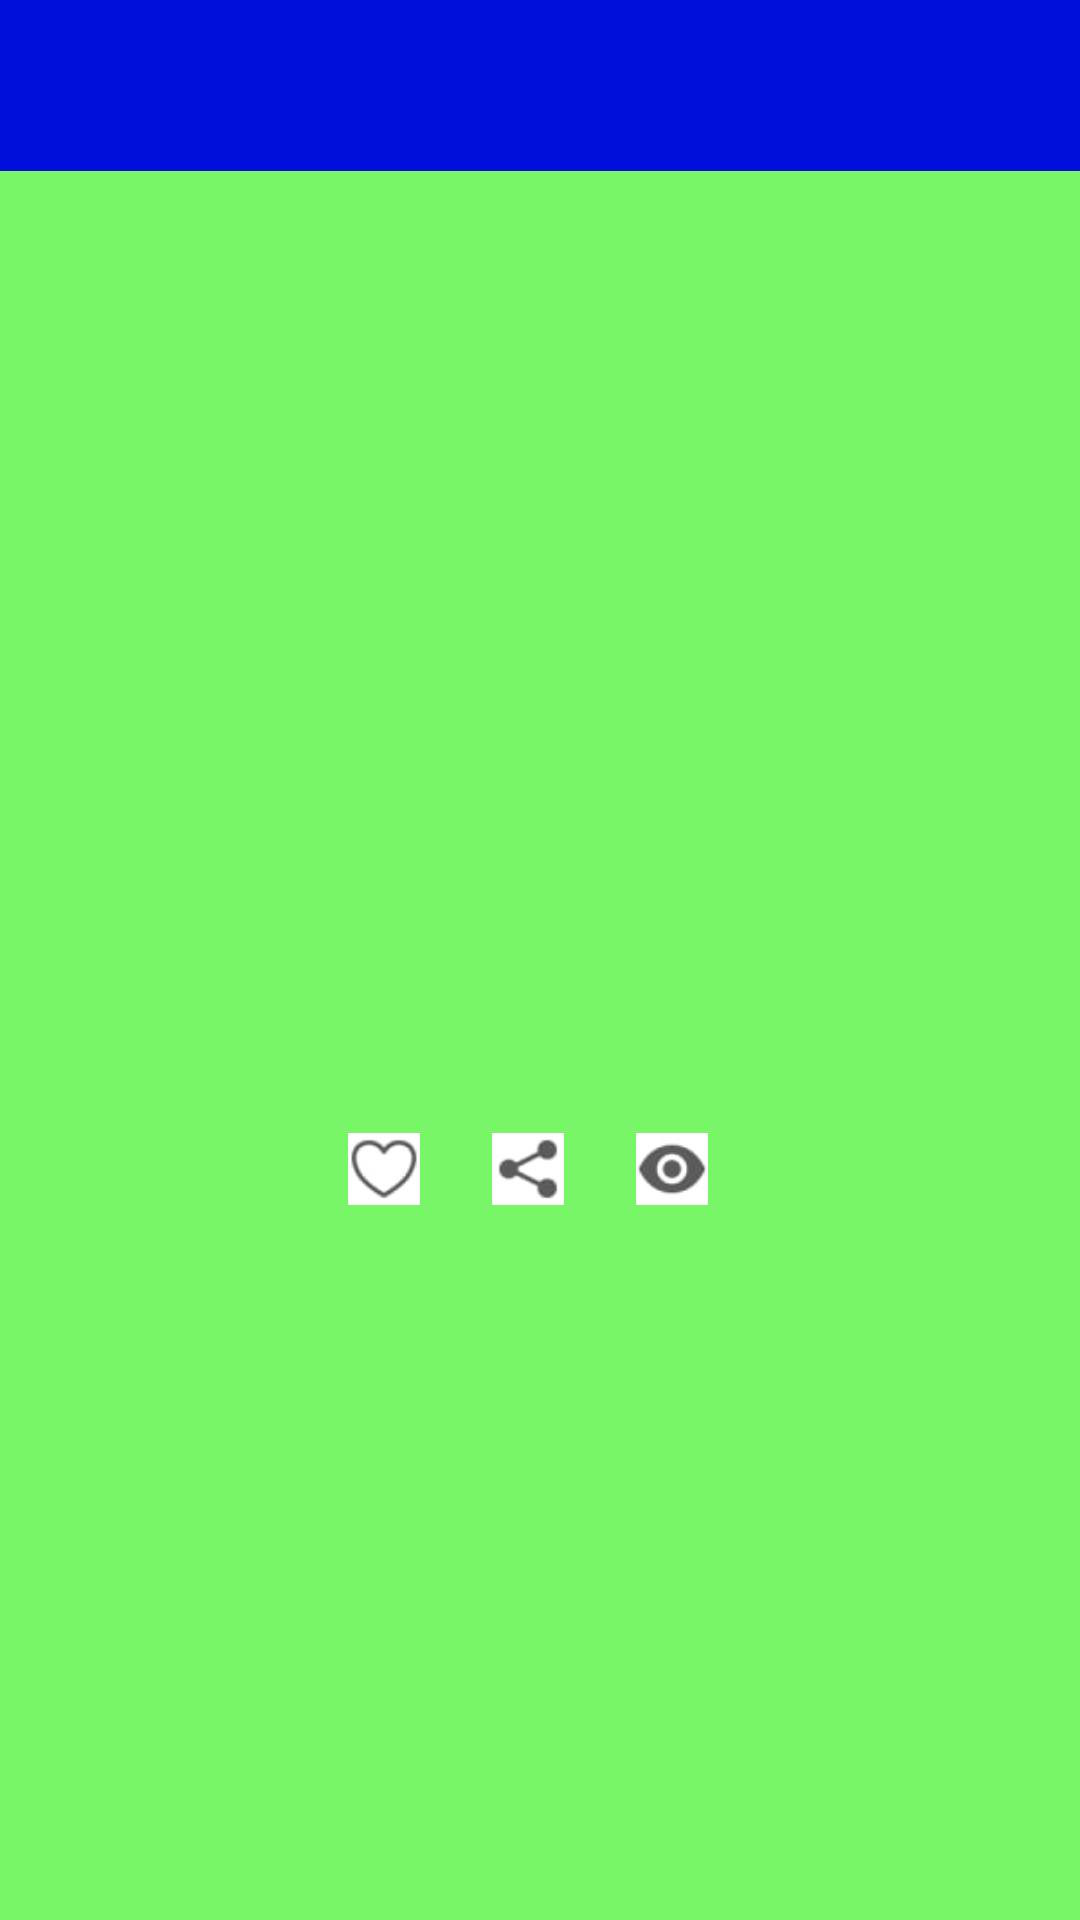

Screen size 1080px x 1920px. Icon name, then its center in pixels as [x,y]:
like: [384,1169]
repost: [528,1169]
